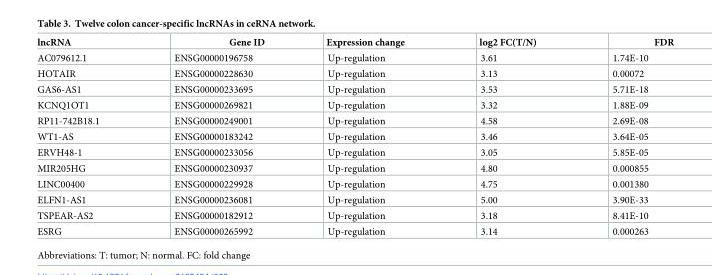table: (36, 36, 673, 236)
table column: (136, 36, 294, 236), (294, 36, 441, 236), (441, 36, 573, 236), (36, 36, 136, 236), (573, 36, 673, 236)
table column header: (36, 36, 673, 49)
table row: (36, 49, 673, 65), (36, 65, 673, 81), (36, 81, 673, 97), (36, 112, 673, 128), (36, 128, 673, 144), (36, 144, 673, 160), (36, 160, 673, 176), (36, 191, 673, 207), (36, 207, 673, 223), (36, 97, 673, 112), (36, 176, 673, 191), (36, 36, 673, 49), (36, 223, 673, 236)
